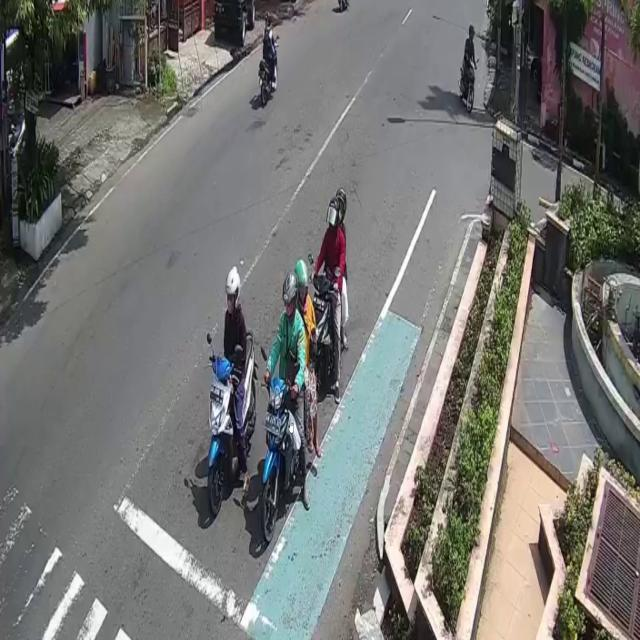bus: (205, 326, 259, 516), (260, 349, 308, 546), (309, 270, 342, 402), (259, 34, 280, 109), (459, 54, 480, 114)
